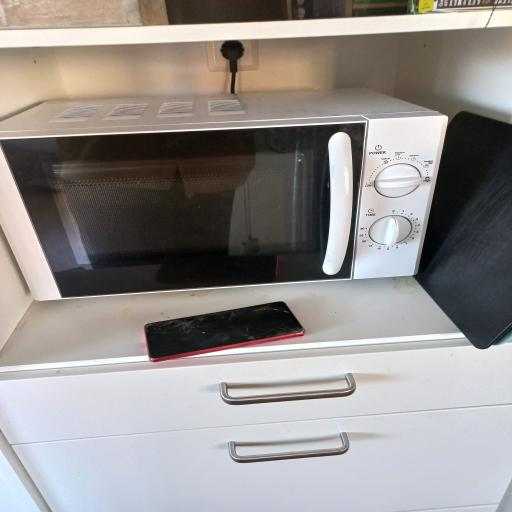phone: (145, 302, 304, 361)
